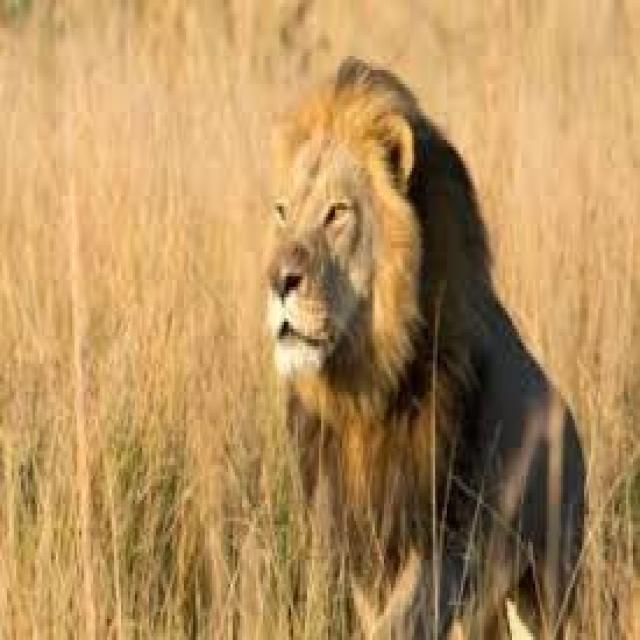Lion: (263, 59, 584, 637)
